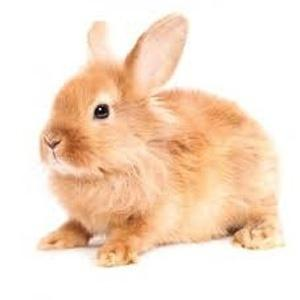rabbit: (41, 15, 280, 265)
